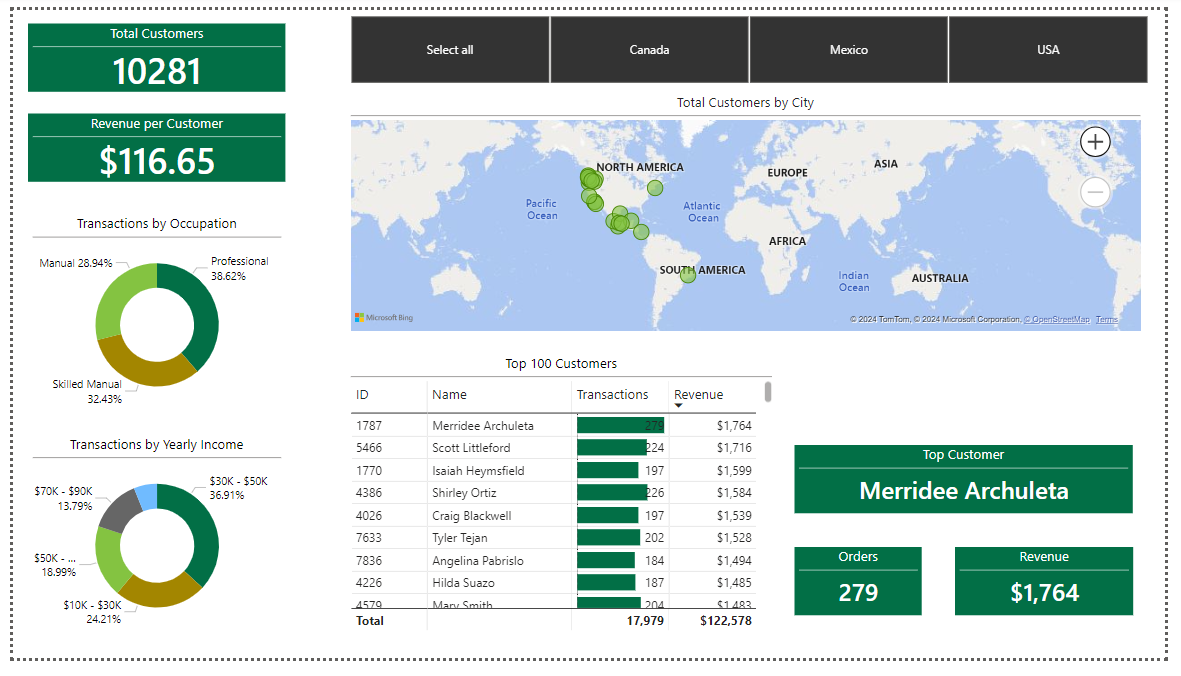

The page's visual inventory and layout, read from the dashboard file:
{"tool":"powerbi","page":{"name":"Customer Details","canvas":[1280,720],"ordinal":2},"visuals":[{"type":"shape","box":[1046,596,198.3,75.9],"z":0},{"type":"shape","box":[868.4,596,141.4,75.9],"z":1000},{"type":"shape","box":[868.4,483.9,375.9,75.9],"z":2000},{"type":"shape","box":[17.2,115.5,286.2,75.9],"z":3000},{"type":"donutChart","title":"Transactions by Occupation","fields":{"Y":["ToplineMeasure.Total Transactions"],"Category":["Customers Lookup.occupation"]},"box":[17.2,225.9,286.2,220],"z":4000},{"type":"donutChart","title":"Transactions by Yearly Income","fields":{"Y":["ToplineMeasure.Total Transactions"],"Category":["Customers Lookup.yearly_income"]},"box":[17.2,472.4,286.2,220.7],"z":5000},{"type":"tableEx","title":"Top 100 Customers","fields":{"Values":["Customers Lookup.customer_id","Customers Lookup.full_name","ToplineMeasure.Total Transactions","ToplineMeasure.Total Revenue"]},"box":[370,381.7,478.3,311.7],"z":6000},{"type":"card","title":"Top Customer","fields":{"Values":["CustomerMeasure.FullNameCD"]},"box":[868.4,483.9,375.9,75.9],"z":7000},{"type":"card","title":"Orders","fields":{"Values":["CustomerMeasure.TotalOrdersCD"]},"box":[868.4,596,141.4,75.9],"z":8000},{"type":"card","title":"Revenue","fields":{"Values":["CustomerMeasure.TotalRevenueCD"]},"box":[1046,596,198.3,75.9],"z":9000},{"type":"shape","box":[17.2,15.5,286.2,75.9],"z":10000},{"type":"card","title":"Total Customers","fields":{"Values":["CustomerMeasure.Total Customers"]},"box":[17.2,15.5,286.2,75.9],"z":11000},{"type":"card","title":"Revenue per Customer","fields":{"Values":["CustomerMeasure.Revenue per Customer"]},"box":[17.2,115.5,286.2,75.9],"z":12000},{"type":"map","fields":{"Category":["Stores Lookup.store_city"],"Size":["CustomerMeasure.Total Customers"]},"box":[370.7,91.4,887.9,269],"z":13000},{"type":"slicer","fields":{"Values":["Stores Lookup.store_country"]},"box":[355.2,0,924.1,87.9],"z":14000}]}

Visuals, with their boxes in screenshot pixels (x1, y1, x2, y2), scaled from the page's 1280x720 canvas onto the 1181x676 screenshot:
shape: locate(965, 560, 1148, 631)
shape: locate(801, 560, 932, 631)
shape: locate(801, 454, 1148, 526)
shape: locate(16, 108, 280, 180)
"Transactions by Occupation" donutChart: locate(16, 212, 280, 419)
"Transactions by Yearly Income" donutChart: locate(16, 444, 280, 651)
"Top 100 Customers" tableEx: locate(341, 358, 783, 651)
"Top Customer" card: locate(801, 454, 1148, 526)
"Orders" card: locate(801, 560, 932, 631)
"Revenue" card: locate(965, 560, 1148, 631)
shape: locate(16, 15, 280, 86)
"Total Customers" card: locate(16, 15, 280, 86)
"Revenue per Customer" card: locate(16, 108, 280, 180)
map - Stores Lookup.store_city x CustomerMeasure.Total Customers: locate(342, 86, 1161, 338)
slicer - Stores Lookup.store_country: locate(328, 0, 1180, 83)
